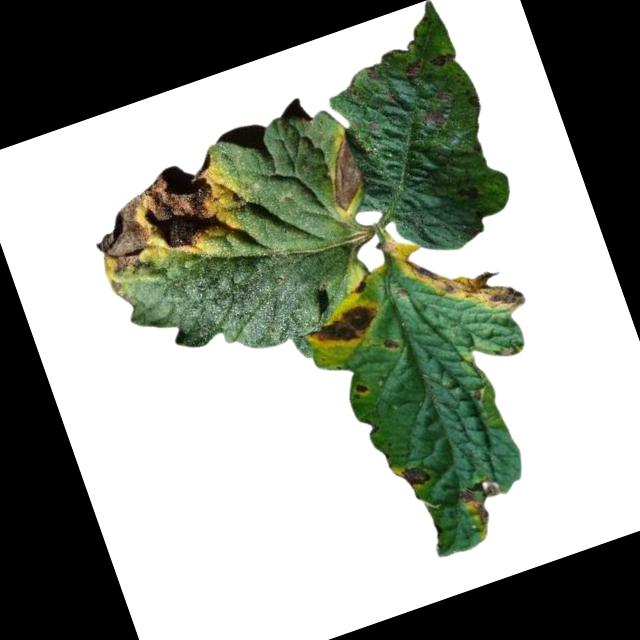Early_blight: (78, 145, 254, 283), (384, 198, 535, 342), (315, 129, 371, 213), (304, 300, 381, 356), (455, 472, 513, 534), (400, 458, 434, 489), (401, 55, 431, 80), (430, 47, 458, 67), (380, 332, 403, 354), (353, 380, 371, 396)
